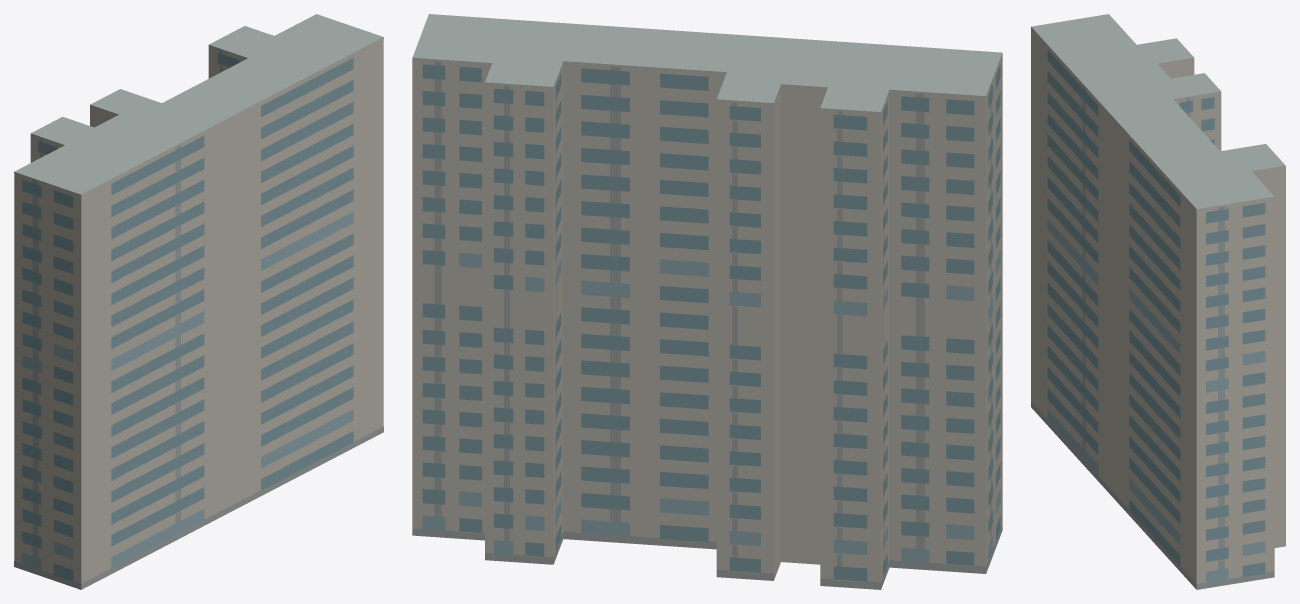
File: residential-5c3044aa-74e4-4a7d-a4e2-474262064efb.glb
3 renders of one model, left to right at view 1: azimuth 30°, elevation 25°; view 2: azimuth 150°, elevation 25°; view 3: azimuth 270°, elevation 25°, orthographic. The views are drawn at different scales.
Parts seen in each view (by area): view 1: residential-5c3044aa-74e4-4a7d-a4e2-474262064efb.tmp; view 2: residential-5c3044aa-74e4-4a7d-a4e2-474262064efb.tmp; view 3: residential-5c3044aa-74e4-4a7d-a4e2-474262064efb.tmp.
Part boxes in pixels (bbox=[...]): residential-5c3044aa-74e4-4a7d-a4e2-474262064efb.tmp: bbox=[14, 14, 383, 589]; residential-5c3044aa-74e4-4a7d-a4e2-474262064efb.tmp: bbox=[412, 14, 1002, 589]; residential-5c3044aa-74e4-4a7d-a4e2-474262064efb.tmp: bbox=[1031, 14, 1285, 589].
Bounding box in the file's own units: 62.68 × 57 × 34.56.
